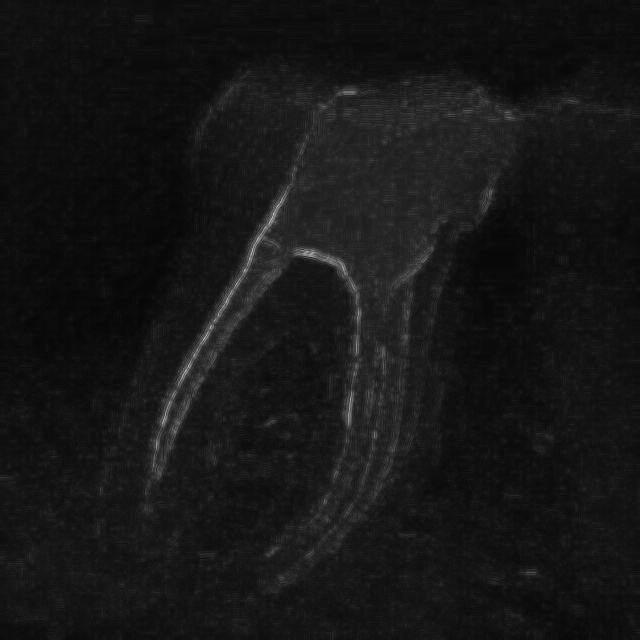Class 0- No endodontic treatment: (81, 24, 528, 618)
